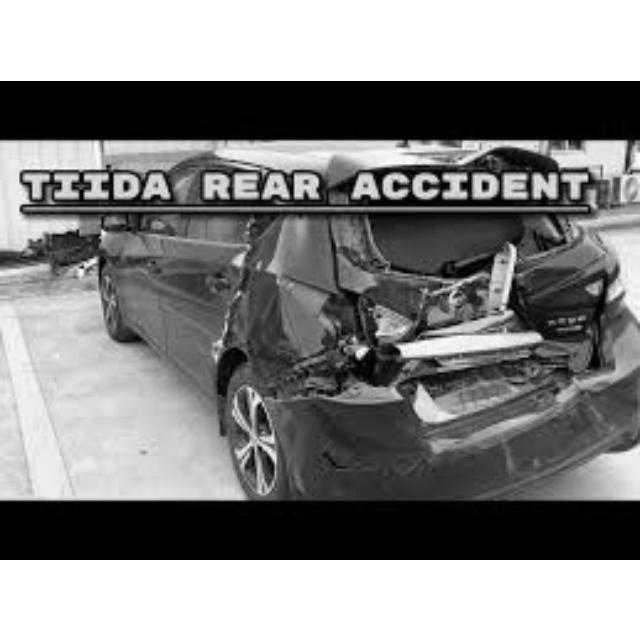Taillight-Damage: (310, 288, 413, 364)
boot-dent: (365, 204, 599, 359)
rear-bumper-dent: (414, 358, 630, 447), (274, 376, 403, 478)
